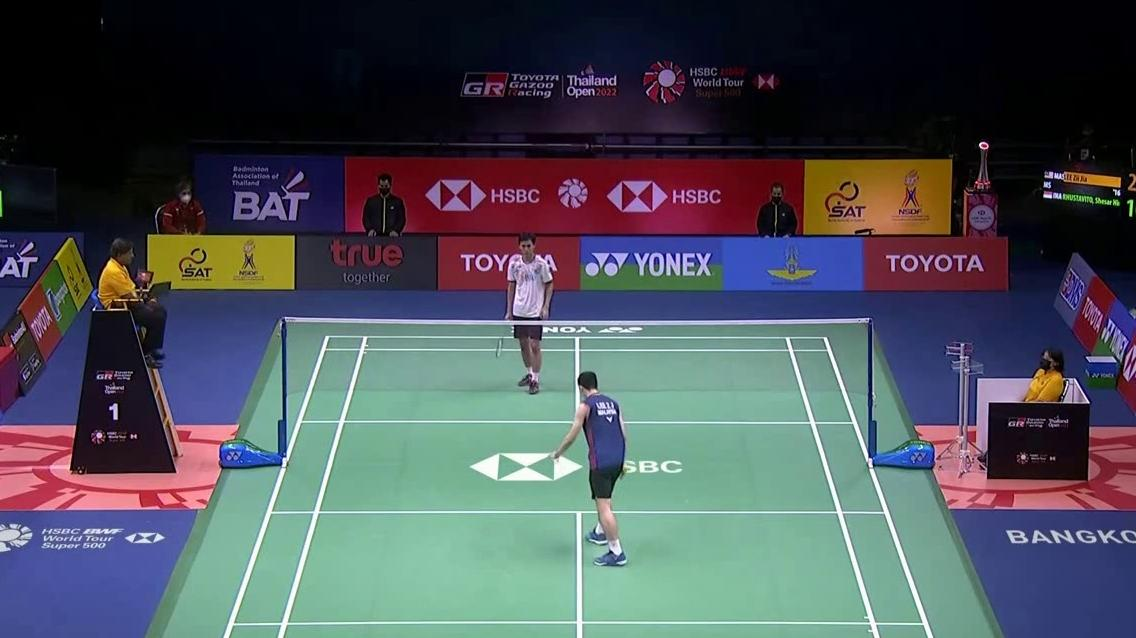racket: (604, 468, 628, 503), (495, 315, 512, 358)
shuttle: (550, 449, 559, 463)
